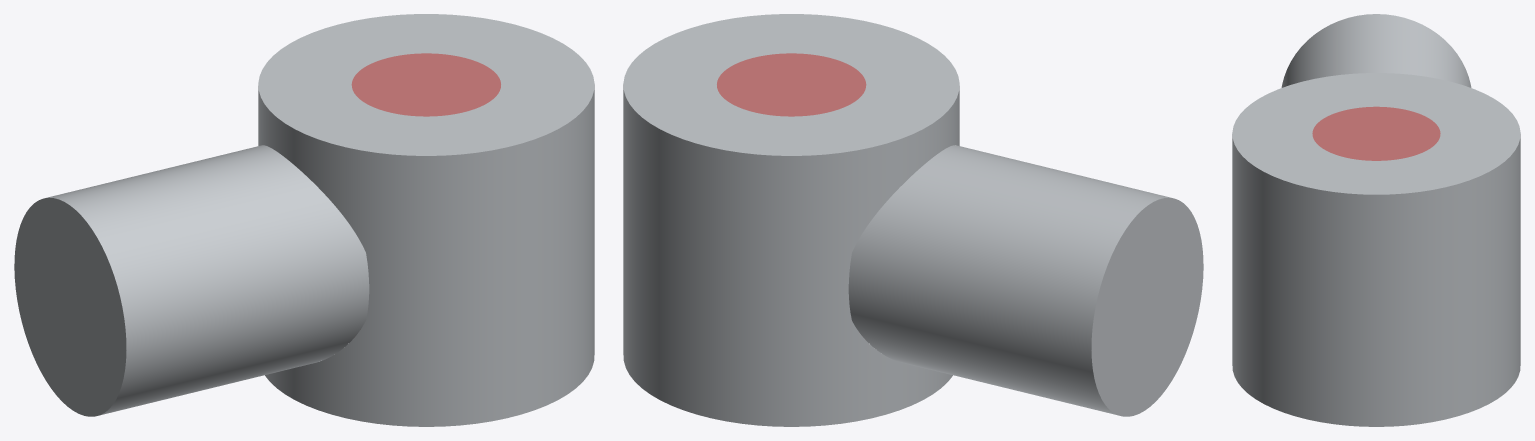
File: step_03.glb
The picture shows the model from 3 angles, left to right: view 1: azimuth 30°, elevation 25°; view 2: azimuth 150°, elevation 25°; view 3: azimuth 270°, elevation 25°; orthographic projection. The views are drawn at different scales.
Visible parts, largest first — view 1: part__rod end eye, removed__rod end eye; view 2: part__rod end eye, removed__rod end eye; view 3: part__rod end eye, removed__rod end eye.
Part boxes in pixels (x1,y1,x2,y2): part__rod end eye: [14, 14, 594, 426]; removed__rod end eye: [351, 53, 500, 116]; part__rod end eye: [623, 14, 1203, 426]; removed__rod end eye: [717, 53, 866, 116]; part__rod end eye: [1232, 14, 1520, 426]; removed__rod end eye: [1312, 106, 1440, 160].
Size of the model in its own units: 155 by 80 by 89.97.
